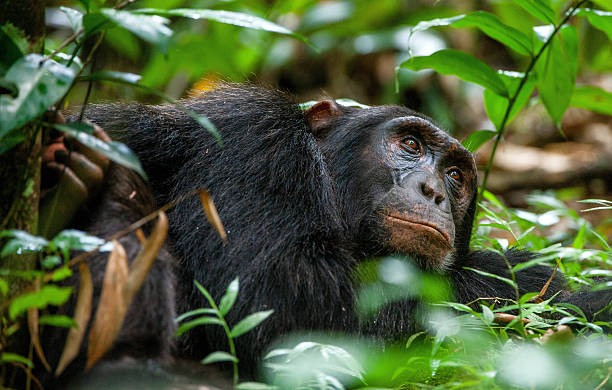chimpanzee: (315, 87, 493, 297)
